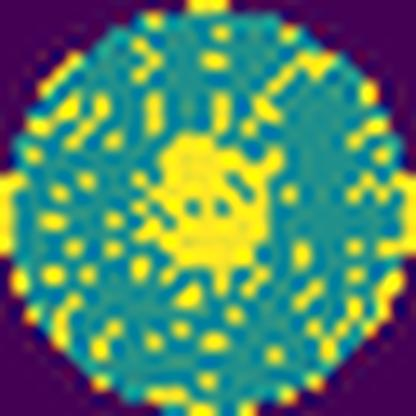Center: (136, 129, 288, 297)
